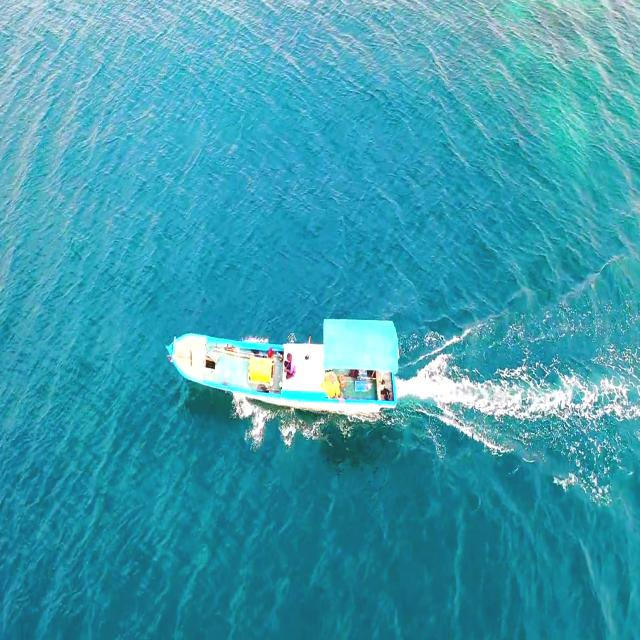ship: (158, 303, 417, 433)
